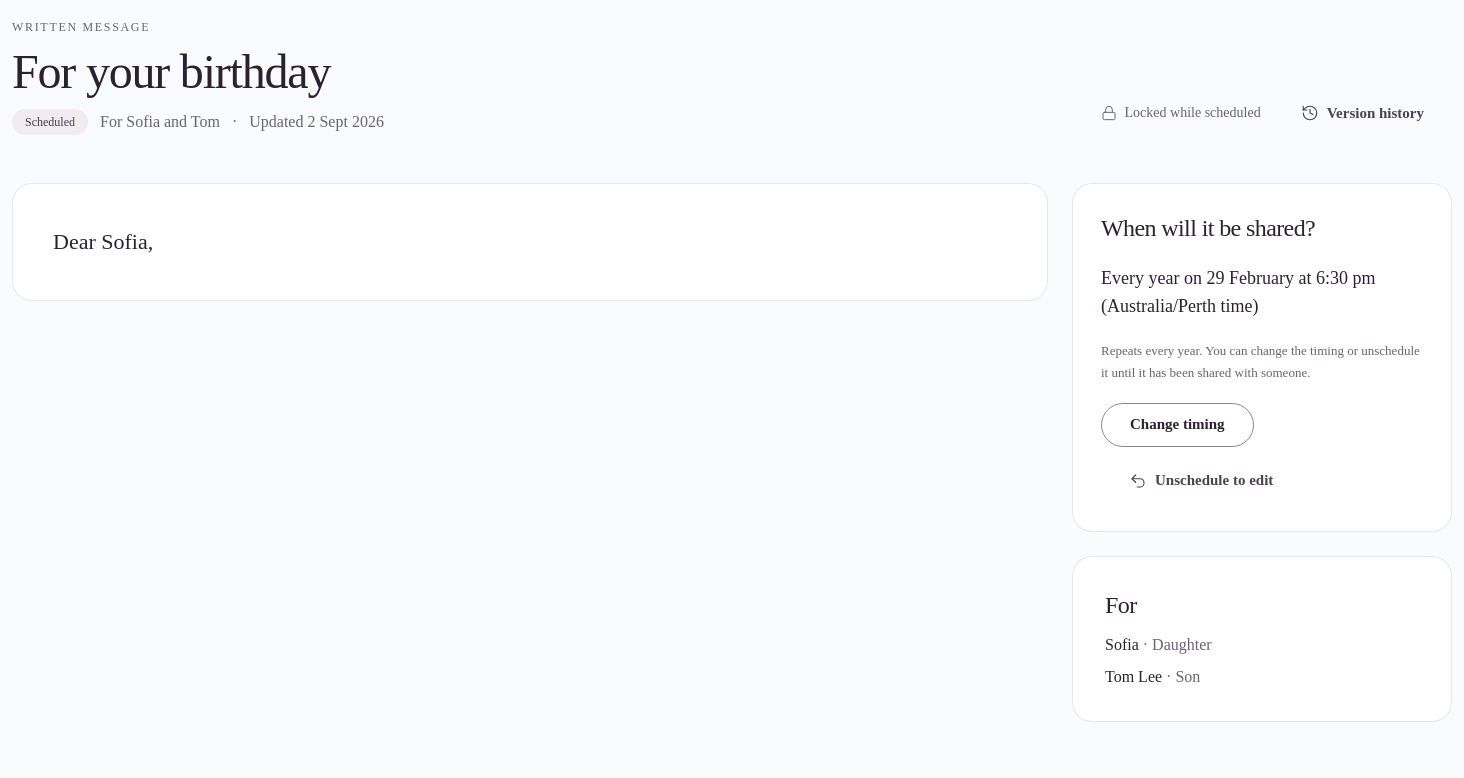
Test: Scheduled repeating messages › before anyone has received it: still Scheduled, timing can change (prefilled)
Expected: the text "Every year on 29 February at 6:30 pm (Australia/Perth time)" is shown, [1101,264,1423,320]
Expected: the text "Repeats every year" is shown, [1101,343,1420,380]
Step 1. Click the button "Change timing" → point(1177, 425), box [1101,403,1254,447]
(page scrolled)
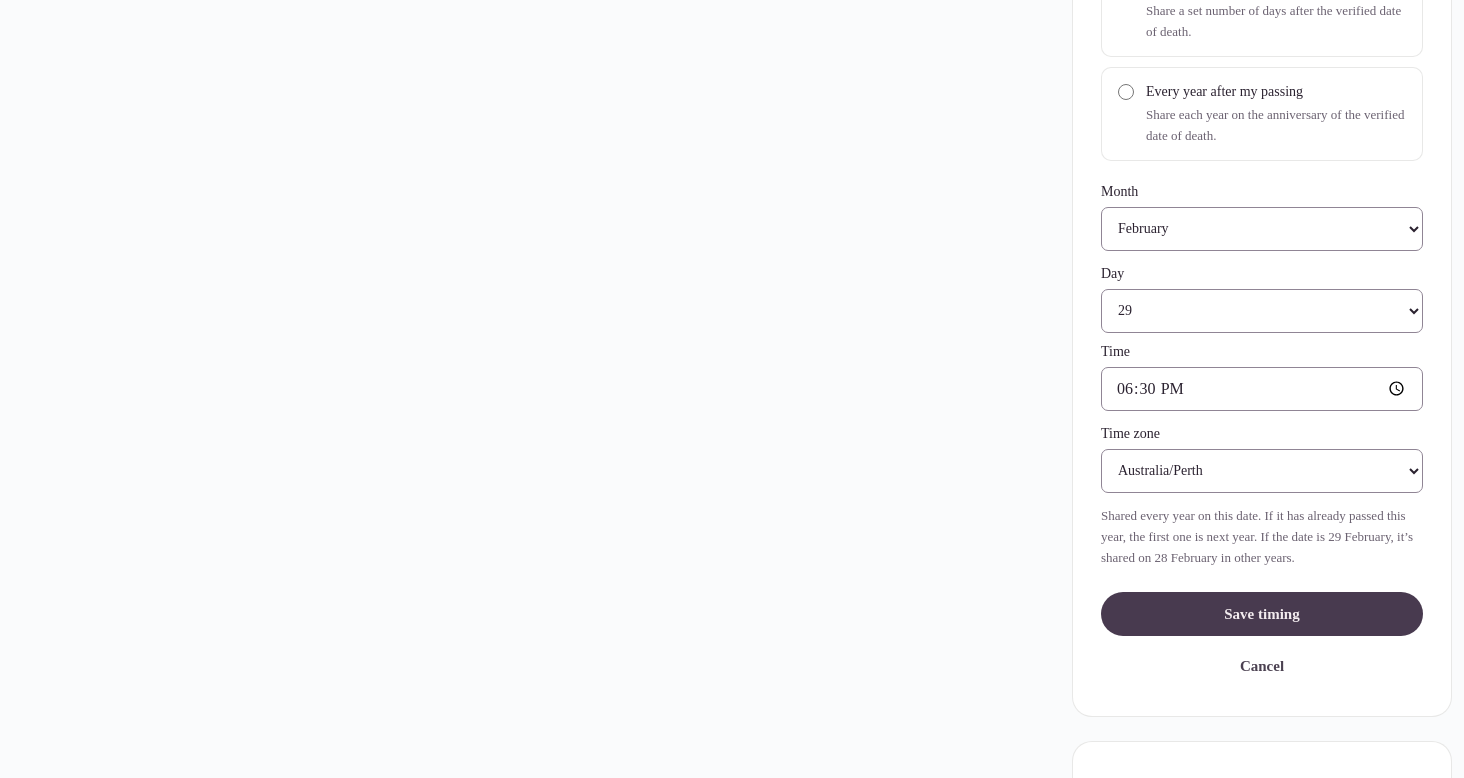
Result: the dropdown labelled "Day" shows "29" at [1101,289,1423,333]
Result: the time field labelled "Time" holds "18:30" at [1101,367,1423,411]
